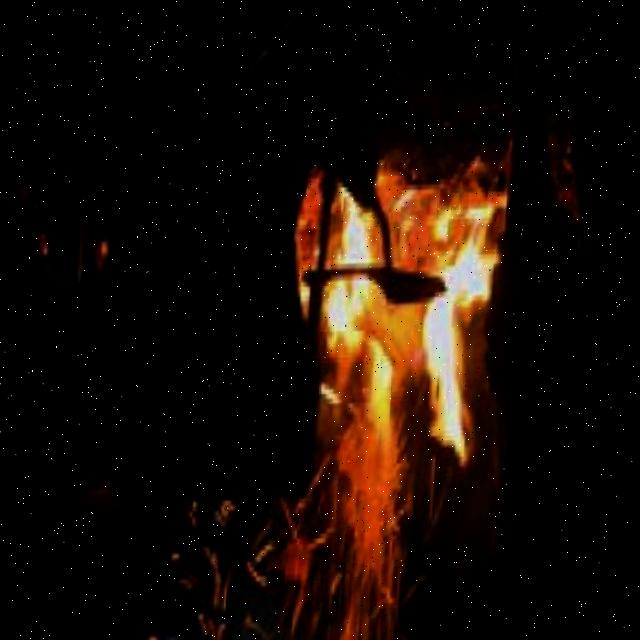fire: (299, 169, 501, 485), (285, 288, 429, 640)
